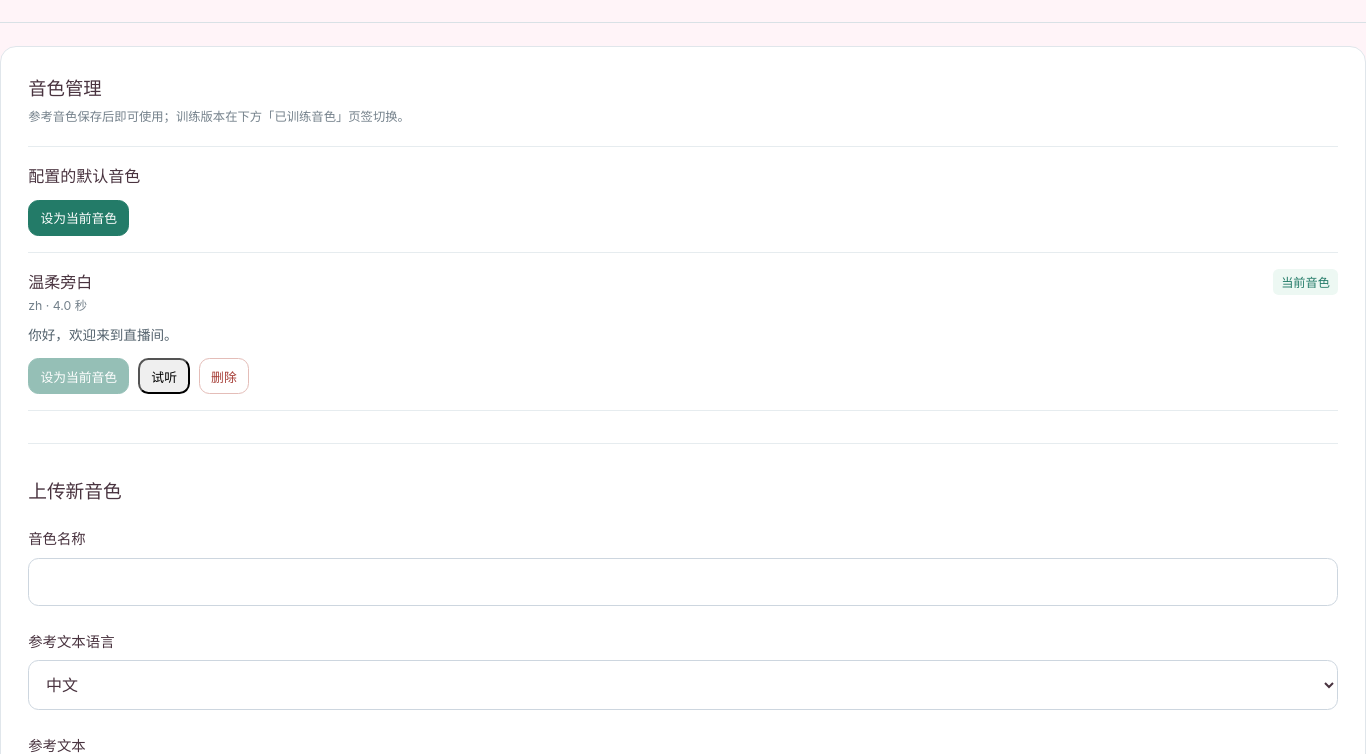
音色管理 › 确认后删除音色并清空列表，取消时保留
The width and height of the screenshot is (1366, 754).
Click the button with aria-label "删除音色 温柔旁白": (224, 376) x1=199 y1=358 x2=249 y2=394
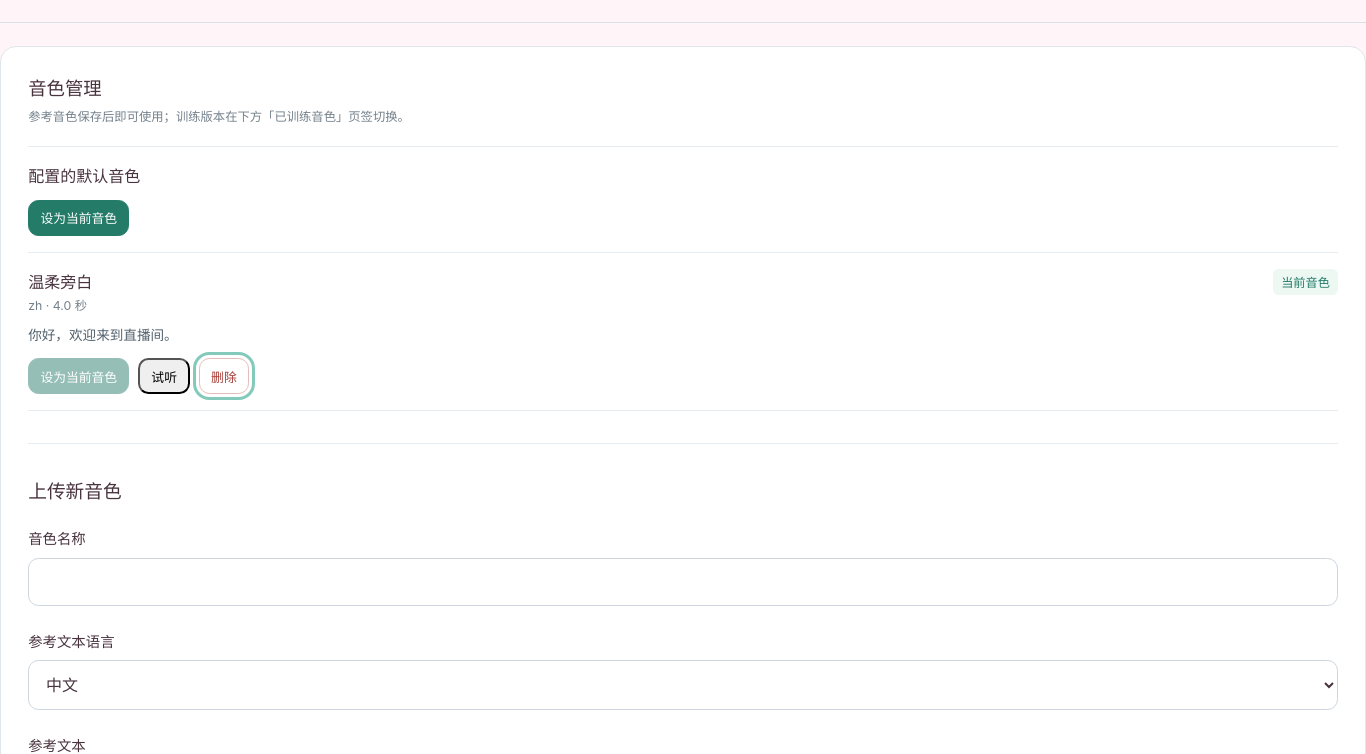
Click the button with aria-label "删除音色 温柔旁白": (224, 376) x1=199 y1=358 x2=249 y2=394
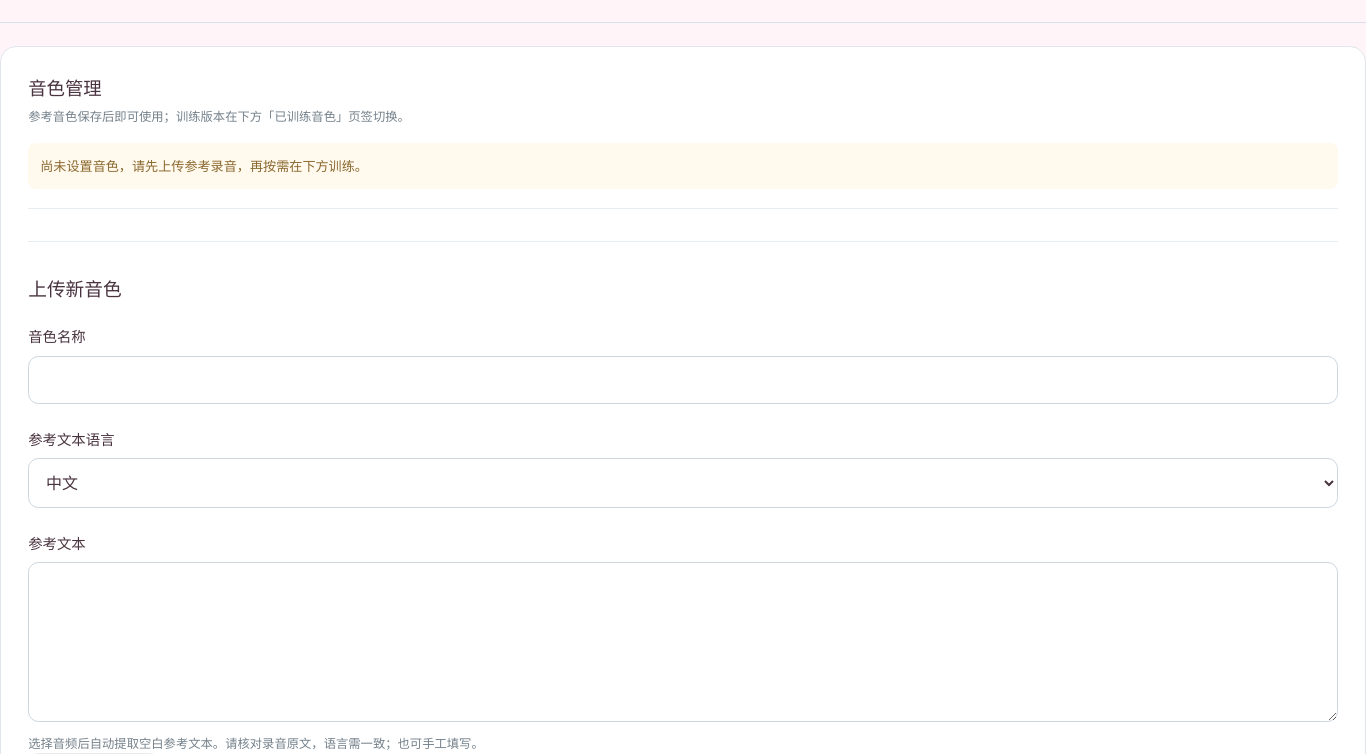
Expected: the text "温柔旁白" is gone
Expected: the button "当前音色" is gone
